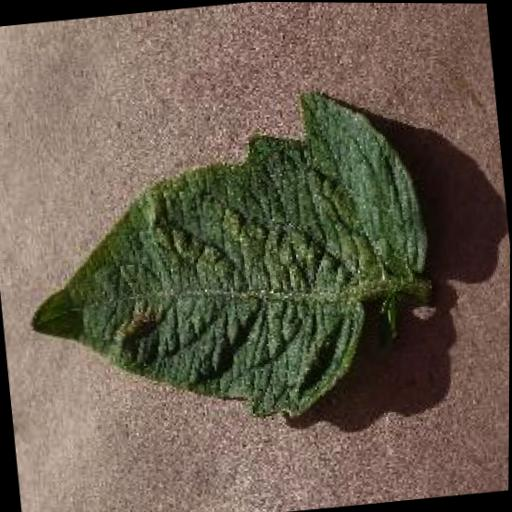Spider Mites: (9, 81, 448, 445)
